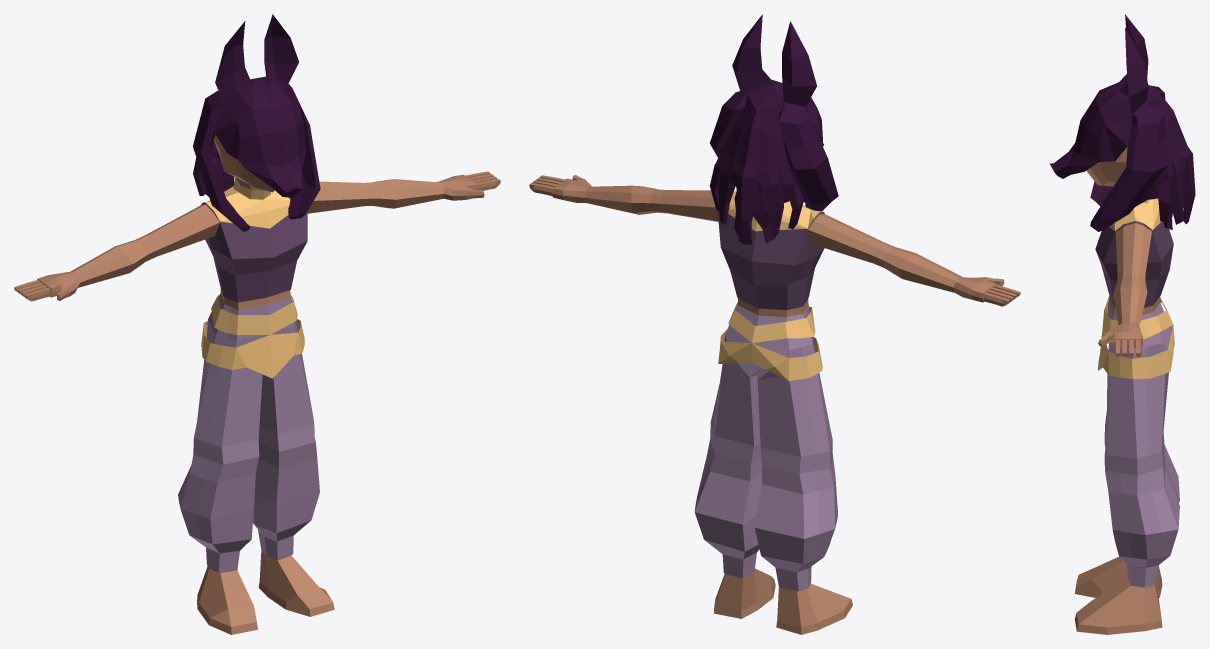
File: AnubisTrial3.fbx
3 renders of one model, left to right at view 1: azimuth 30°, elevation 25°; view 2: azimuth 150°, elevation 25°; view 3: azimuth 270°, elevation 25°, orthographic.
Parts seen in each view (by area): view 1: BODY.003; view 2: BODY.003; view 3: BODY.003.
Boxes of the visible parts, x1,y1,x2,y2 form: BODY.003: (14, 14, 500, 634); BODY.003: (529, 14, 1020, 634); BODY.003: (1050, 14, 1195, 634).
Bounding box in the file's own units: 167 × 198 × 44.78.
